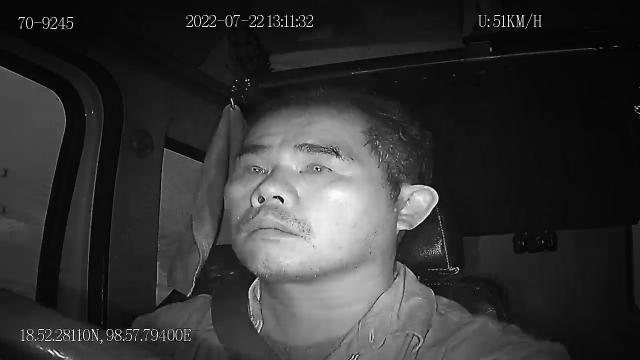SafeDriving: (294, 150, 342, 181), (238, 150, 275, 184)
Seatbelt: (210, 276, 284, 360)
